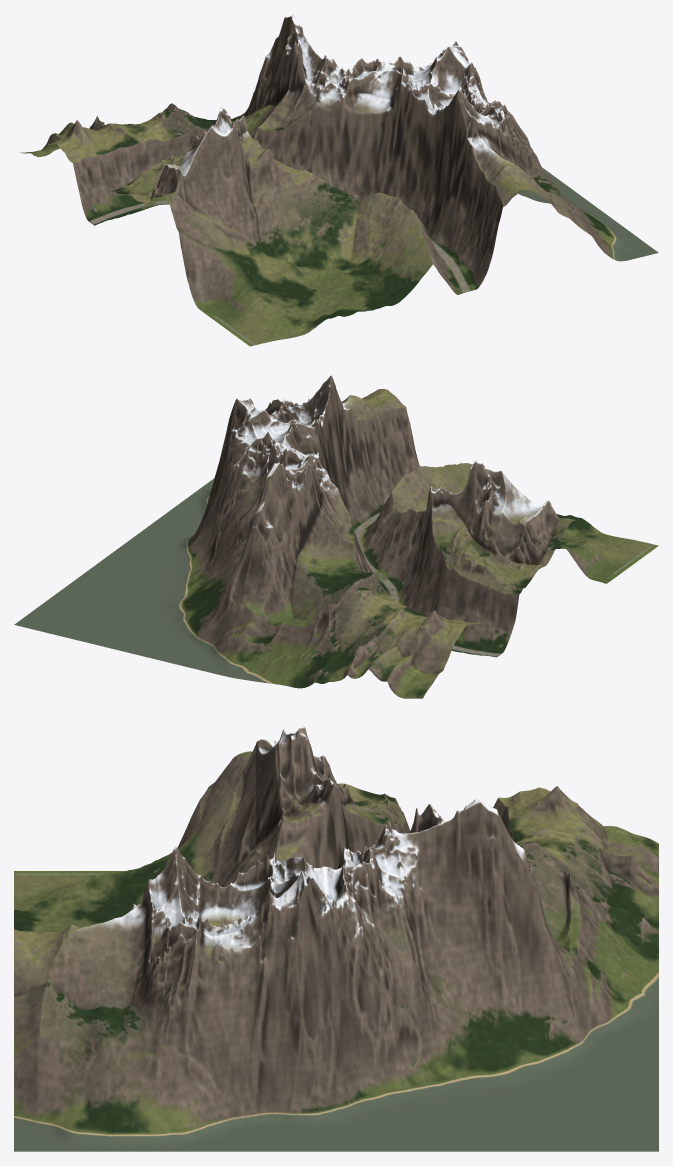
Rendered from terrain-1.glb.
3 views of the same model, one above another, from view 1: azimuth 30°, elevation 25°; view 2: azimuth 150°, elevation 25°; view 3: azimuth 270°, elevation 25° (orthographic). The views are drawn at different scales.
Visible parts, largest first — view 1: Terrain 10.4, Terrain 10.6, Terrain 10.5, Terrain 10.1, Terrain 10.0, Terrain 10.3, Terrain 10.2, Terrain 10.7; view 2: Terrain 10.0, Terrain 10.2, Terrain 10.1, Terrain 10.3, Terrain 10.6, Terrain 10.4, Terrain 10.5; view 3: Terrain 10.2, Terrain 10.6, Terrain 10.7, Terrain 10.3, Terrain 10.0, Terrain 10.4, Terrain 10.5, Terrain 10.1.
Boxes of the visible parts, x1,y1,x2,y2 form: Terrain 10.4: (162,73,453,346); Terrain 10.6: (421,53,599,294); Terrain 10.5: (357,41,496,237); Terrain 10.1: (111,37,328,209); Terrain 10.0: (20,48,277,225); Terrain 10.3: (132,56,426,203); Terrain 10.2: (268,14,387,168); Terrain 10.7: (500,114,658,261); Terrain 10.0: (219,506,511,698); Terrain 10.2: (14,444,331,674); Terrain 10.1: (277,463,540,633); Terrain 10.3: (73,432,569,604); Terrain 10.6: (132,383,419,549); Terrain 10.4: (286,443,658,587); Terrain 10.5: (183,375,387,552); Terrain 10.2: (337,799,658,1151); Terrain 10.6: (14,848,336,1151); Terrain 10.7: (14,925,175,1151); Terrain 10.3: (256,727,497,1151); Terrain 10.0: (493,786,658,1015); Terrain 10.4: (14,745,336,931); Terrain 10.5: (175,847,336,1115); Terrain 10.1: (336,783,440,869).
Bounding box in the file's own units: 5000 × 1887 × 5000.
Materials: 1 (1 with a texture image).
